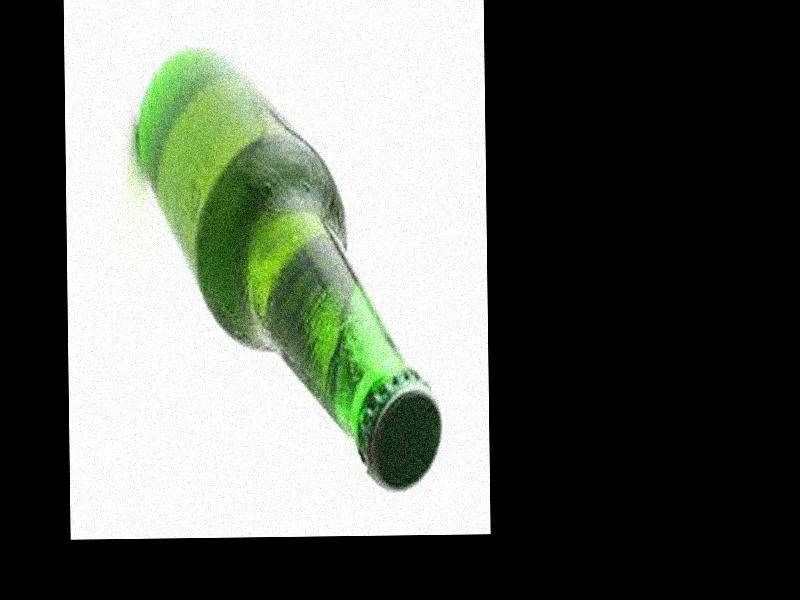Beer: (133, 42, 441, 494)
